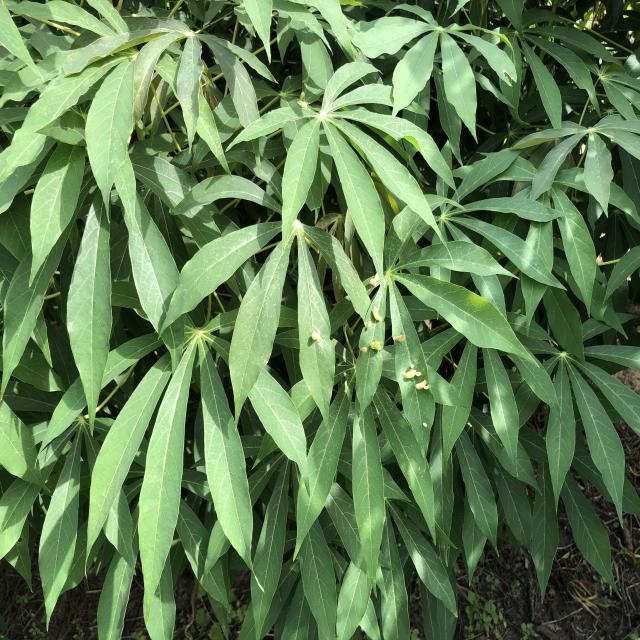Mosca: (388, 358, 436, 396), (349, 329, 379, 358), (365, 302, 393, 332), (365, 270, 387, 292), (391, 321, 407, 350), (306, 323, 324, 346), (413, 411, 432, 430)
